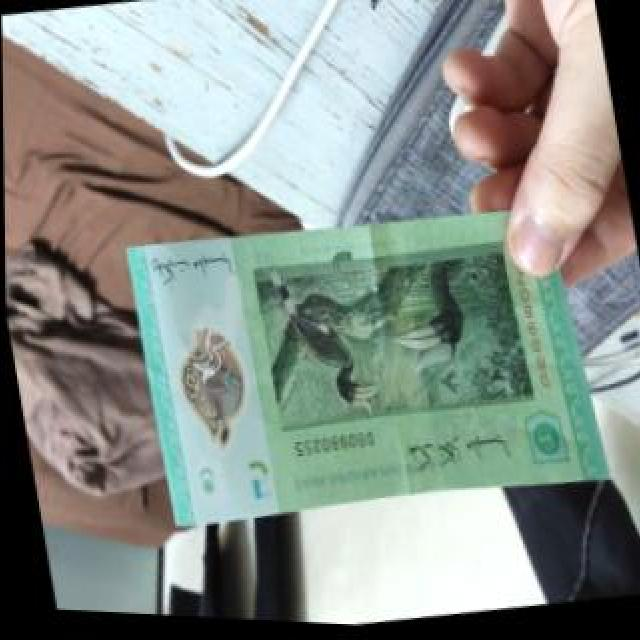5 Ringgit: (126, 182, 600, 545)
